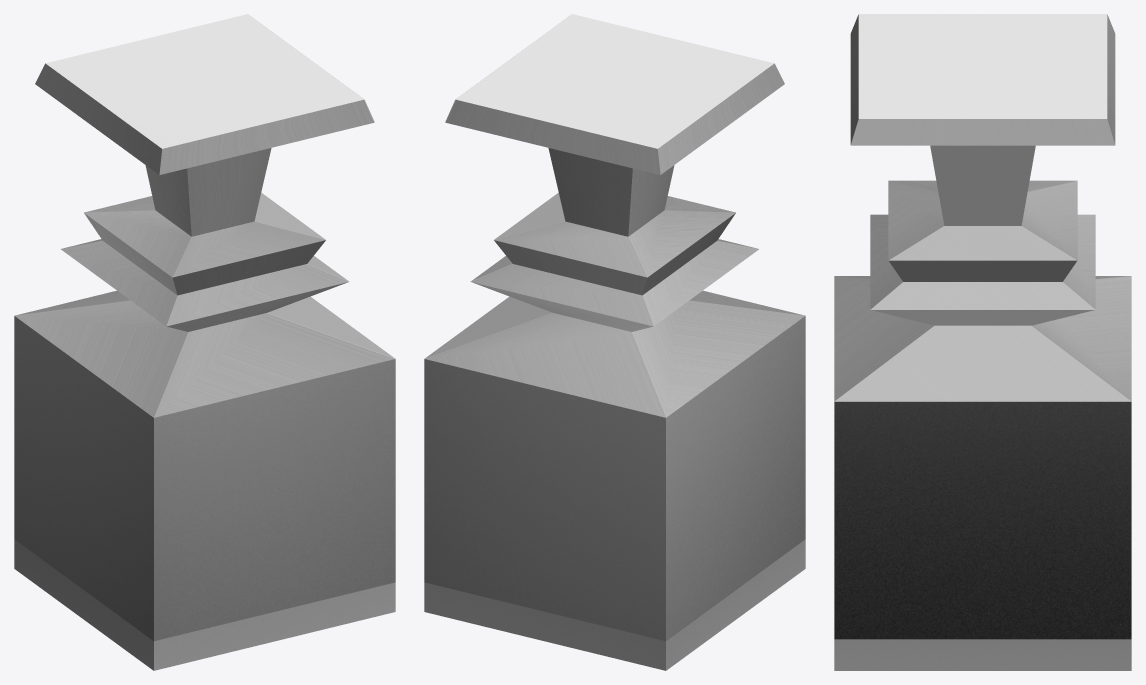
3 renders of one model, left to right at view 1: azimuth 30°, elevation 25°; view 2: azimuth 150°, elevation 25°; view 3: azimuth 270°, elevation 25°, orthographic. The views are drawn at different scales.
Visible parts, largest first — view 1: Cube; view 2: Cube; view 3: Cube.
Part boxes in pixels (<box>): Cube: <box>14,14,395,670</box>; Cube: <box>424,14,805,670</box>; Cube: <box>834,14,1131,670</box>.
Bounding box in the file's own units: 2 × 4.02 × 2.
1 material, 1 textured.
